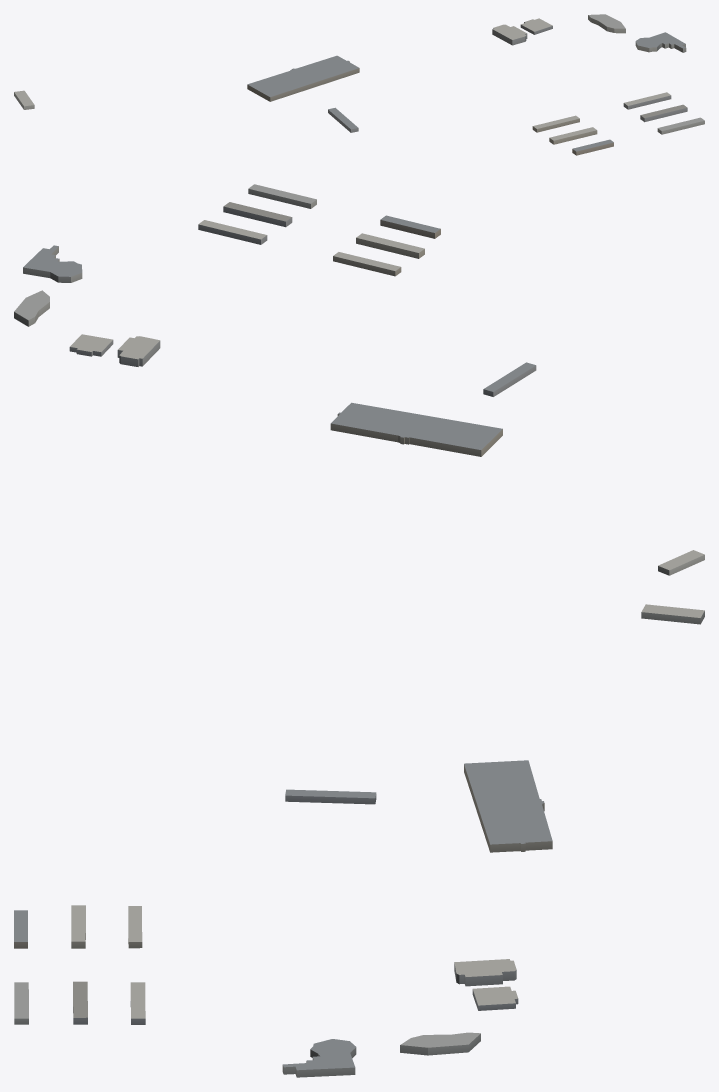
File: bld_13_5.fbx
The picture shows the model from 3 angles, top to bottom: view 1: azimuth 30°, elevation 25°; view 2: azimuth 150°, elevation 25°; view 3: azimuth 270°, elevation 25°; orthographic projection. The views are drawn at different scales.
Visible parts, largest first — view 1: bld_13_5_LOD0; view 2: bld_13_5_LOD0; view 3: bld_13_5_LOD0.
Part boxes in pixels (x1=…): bld_13_5_LOD0: x1=14, y1=14, x2=704, y2=155; bld_13_5_LOD0: x1=14, y1=184, x2=704, y2=575; bld_13_5_LOD0: x1=14, y1=604, x2=704, y2=1077.
Bounding box in the file's own units: 1473 × 13.65 × 921.
